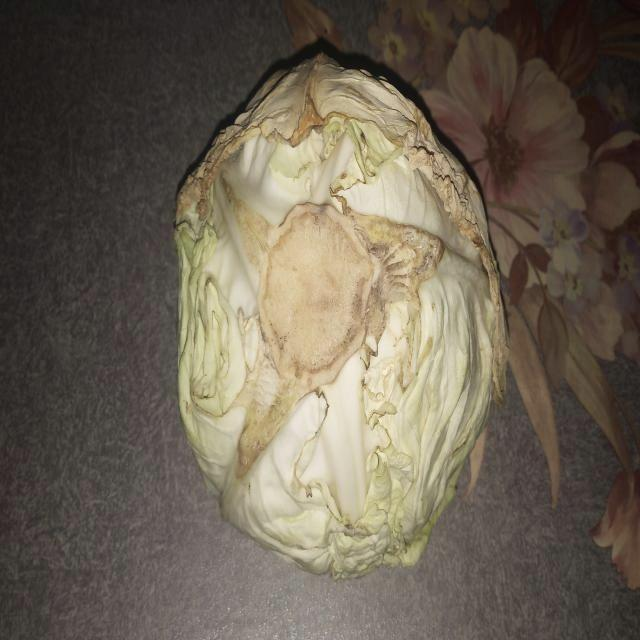cabbage: (161, 43, 514, 590)
